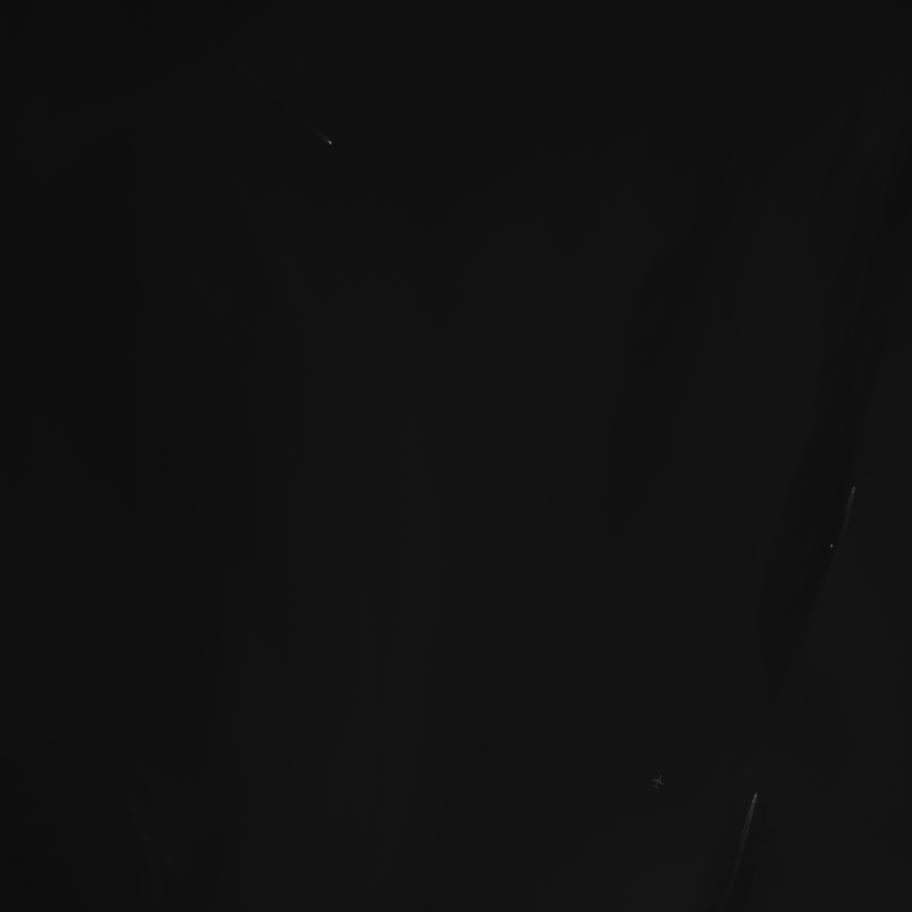plane: (649, 772, 667, 792)
ship: (328, 140, 333, 145), (830, 544, 833, 548)
